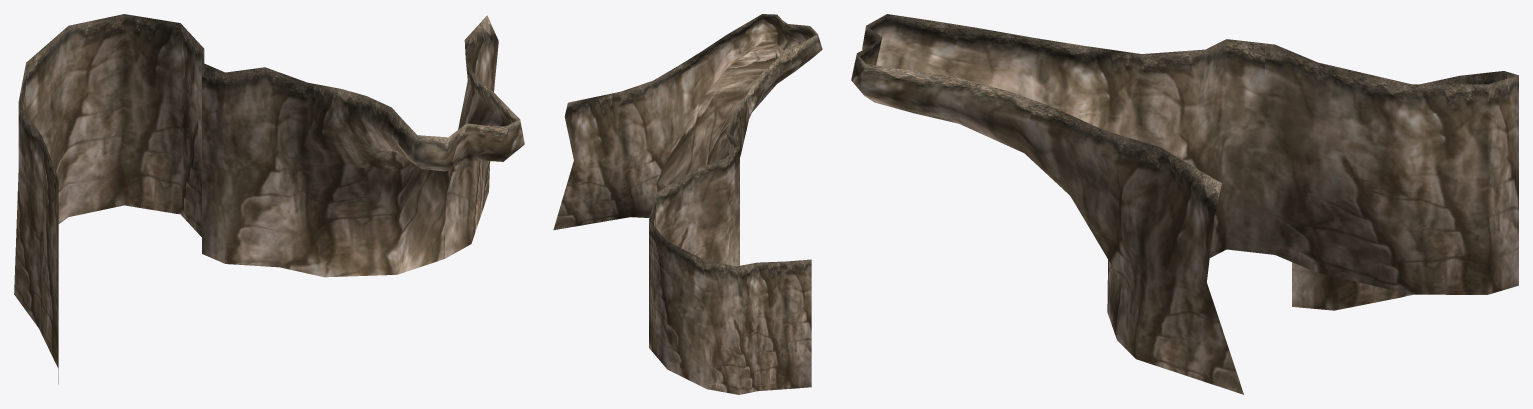
The model's file is OVERHILL_A_01_LINE72.fbx.
The picture shows the model from 3 angles, left to right: view 1: azimuth 30°, elevation 25°; view 2: azimuth 150°, elevation 25°; view 3: azimuth 270°, elevation 25°; orthographic projection. The views are drawn at different scales.
Visible parts, largest first — view 1: OVERHILL_A_01_LINE72; view 2: OVERHILL_A_01_LINE72; view 3: OVERHILL_A_01_LINE72.
Boxes of the visible parts, left/top/right/bottom form: OVERHILL_A_01_LINE72: left=14, top=14, right=524, bottom=384; OVERHILL_A_01_LINE72: left=553, top=14, right=822, bottom=394; OVERHILL_A_01_LINE72: left=851, top=14, right=1518, bottom=394.
Size of the model in its own units: 50530 by 41763 by 64991.
Materials: 3 (3 with a texture image).
